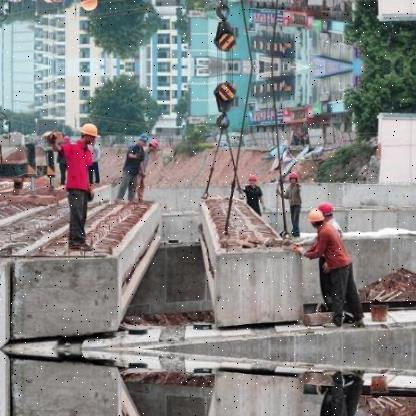Helmet: (76, 120, 98, 148), (318, 196, 334, 222), (134, 127, 152, 149), (304, 207, 324, 226), (80, 0, 100, 18), (286, 168, 304, 185), (146, 139, 162, 156), (244, 173, 258, 188)
